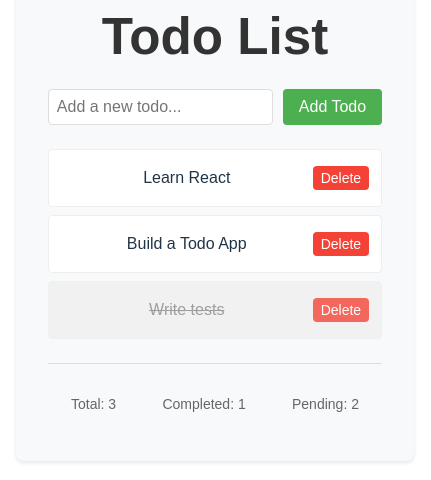
TodoList Component › deletes todo when delete button is clicked
// Click delete
Click the button with test id "delete-button-1".
click(341, 178)  # box [313,166,369,190]
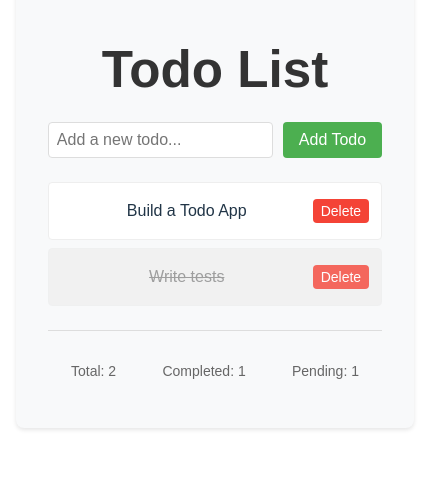
Expected: the text with test id "todo-text-1" is gone
Expected: the text "Total: 2" is shown, [71,361,116,382]
Expected: the text "Pending: 1" is shown, [292,361,359,382]
